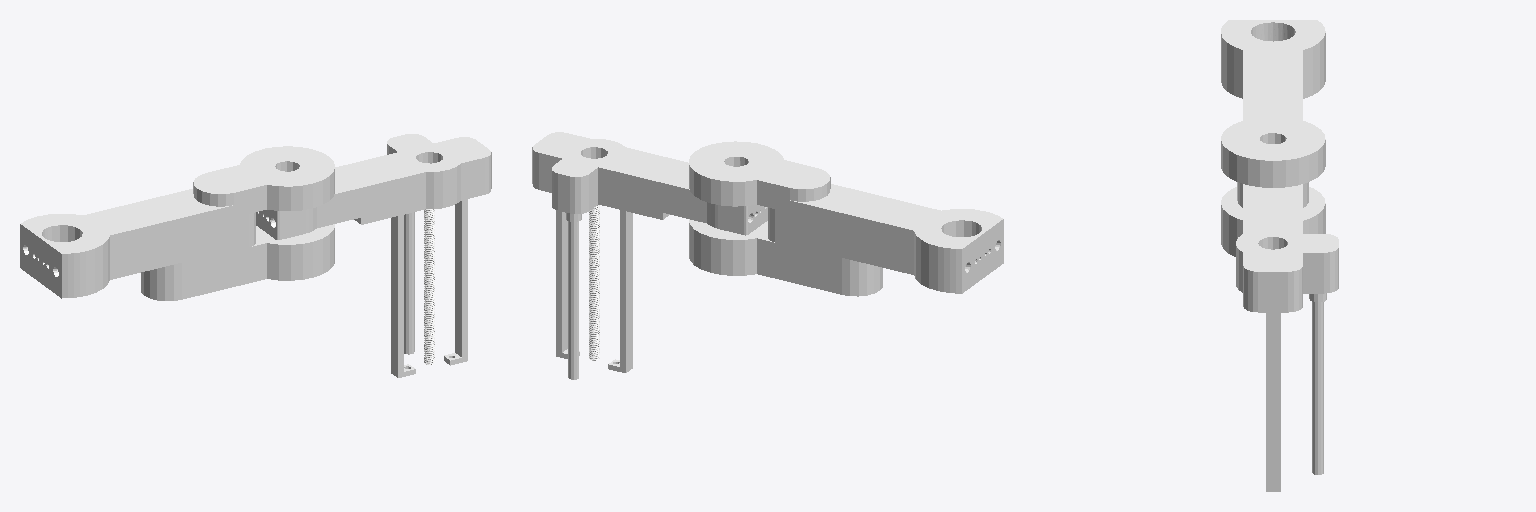
The robot description file, URDF, robot "adept_robot_2":
<?xml version="1.0" encoding="utf-8"?>
<!-- This URDF was automatically created by SolidWorks to URDF Exporter! Originally created by [author] ([email redacted]) 
     Commit Version: 1.5.1-0-g916b5db  Build Version: 1.5.7152.31018
     For more information, please see http://wiki.ros.org/sw_urdf_exporter -->
<robot
  name="adept_robot_2">
  <link
    name="base_link">
    <inertial>
      <origin
        xyz="0.0245 -0.0001542 0.21373"
        rpy="0 0 0" />
      <mass
        value="2.5675" />
      <inertia
        ixx="0.0068861"
        ixy="5.4055E-11"
        ixz="5.5326E-05"
        iyy="0.0063943"
        iyz="-3.5928E-12"
        izz="0.0057933" />
    </inertial>
    <visual>
      <origin
        xyz="0 0 0"
        rpy="0 0 0" />
      <geometry>
        <mesh
          filename="package://adept_robot_2/meshes/base_link.STL" />
      </geometry>
      <material
        name="">
        <color
          rgba="1 1 1 0.32" />
      </material>
    </visual>
    <collision>
      <origin
        xyz="0 0 0"
        rpy="0 0 0" />
      <geometry>
        <mesh
          filename="package://adept_robot_2/meshes/base_link.STL" />
      </geometry>
    </collision>
  </link>
  <link
    name="Link1">
    <inertial>
      <origin
        xyz="0.117407025872708 -1.25359334024466E-10 -0.0275548145030767"
        rpy="0 0 0" />
      <mass
        value="0.569125964077184" />
      <inertia
        ixx="0.000395436813571713"
        ixy="5.37455807300204E-13"
        ixz="0.000124545644672777"
        iyy="0.00223952834304756"
        iyz="3.5503068082669E-13"
        izz="0.00211092523046064" />
    </inertial>
    <visual>
      <origin
        xyz="0 0 0"
        rpy="0 0 0" />
      <geometry>
        <mesh
          filename="package://adept_robot_2/meshes/Link1.STL" />
      </geometry>
      <material
        name="">
        <color
          rgba="1 1 1 1" />
      </material>
    </visual>
    <collision>
      <origin
        xyz="0 0 0"
        rpy="0 0 0" />
      <geometry>
        <mesh
          filename="package://adept_robot_2/meshes/Link1.STL" />
      </geometry>
    </collision>
  </link>
  <joint
    name="Joint1"
    type="revolute">
    <origin
      xyz="0.10571 -0.0001601 0.42988"
      rpy="0 0 0" />
    <parent
      link="base_link" />
    <child
      link="Link1" />
    <axis
      xyz="0 0 1" />
    <limit
      lower="-2"
      upper="2"
      effort="0"
      velocity="1" />
  </joint>
  <link
    name="Link2">
    <inertial>
      <origin
        xyz="0.0829498912742016 0.00283016633079733 0.00977088530359421"
        rpy="0 0 0" />
      <mass
        value="0.212874058038776" />
      <inertia
        ixx="6.57074308602495E-05"
        ixy="-1.74128836487361E-05"
        ixz="8.4823788307751E-06"
        iyy="0.000390393473487716"
        iyz="7.84228298422962E-07"
        izz="0.000425987376929657" />
    </inertial>
    <visual>
      <origin
        xyz="0 0 0"
        rpy="0 0 0" />
      <geometry>
        <mesh
          filename="package://adept_robot_2/meshes/Link2.STL" />
      </geometry>
      <material
        name="">
        <color
          rgba="1 1 1 1" />
      </material>
    </visual>
    <collision>
      <origin
        xyz="0 0 0"
        rpy="0 0 0" />
      <geometry>
        <mesh
          filename="package://adept_robot_2/meshes/Link2.STL" />
      </geometry>
    </collision>
  </link>
  <joint
    name="Joint2"
    type="revolute">
    <origin
      xyz="0.19 0 -0.035"
      rpy="0 0 0" />
    <parent
      link="Link1" />
    <child
      link="Link2" />
    <axis
      xyz="0 0 1" />
    <limit
      lower="-2"
      upper="2"
      effort="0"
      velocity="1" />
  </joint>
  <link
    name="Tool">
    <inertial>
      <origin
        xyz="-4.27651823747821E-06 -0.00299987625965217 0.0348778462843223"
        rpy="0 0 0" />
      <mass
        value="0.023545411123381" />
      <inertia
        ixx="4.56549098366953E-05"
        ixy="-7.94158153472426E-09"
        ixz="-4.55664961256907E-09"
        iyy="4.00718283641911E-05"
        iyz="-3.17465425925388E-06"
        izz="6.99639144528093E-06" />
    </inertial>
    <visual>
      <origin
        xyz="0 0 0"
        rpy="0 0 0" />
      <geometry>
        <mesh
          filename="package://adept_robot_2/meshes/Tool.STL" />
      </geometry>
      <material
        name="">
        <color
          rgba="1 1 1 1" />
      </material>
    </visual>
    <collision>
      <origin
        xyz="0 0 0"
        rpy="0 0 0" />
      <geometry>
        <mesh
          filename="package://adept_robot_2/meshes/Tool.STL" />
      </geometry>
    </collision>
  </link>
  <joint
    name="Tool1"
    type="prismatic">
    <origin
      xyz="0.12 0 -0.14263"
      rpy="-3.1416 0 0" />
    <parent
      link="Link2" />
    <child
      link="Tool" />
    <axis
      xyz="0 0 1" />
    <limit
      lower="0"
      upper="0.06"
      effort="0"
      velocity="0.075" />
  </joint>
  <link
    name="Link_4">
    <inertial>
      <origin
        xyz="-0.000623533590957182 0.00434070055352537 0.0430465440289566"
        rpy="0 0 0" />
      <mass
        value="0.0317141760755607" />
      <inertia
        ixx="7.93928844844214E-06"
        ixy="-2.50593233840946E-12"
        ixz="-1.72426138157143E-07"
        iyy="1.11018333375248E-05"
        iyz="-4.41698963488257E-08"
        izz="4.27099015161773E-06" />
    </inertial>
    <visual>
      <origin
        xyz="0 0 0"
        rpy="0 0 0" />
      <geometry>
        <mesh
          filename="package://adept_robot_2/meshes/Link_4.STL" />
      </geometry>
      <material
        name="">
        <color
          rgba="1 1 1 0.32" />
      </material>
    </visual>
    <collision>
      <origin
        xyz="0 0 0"
        rpy="0 0 0" />
      <geometry>
        <mesh
          filename="package://adept_robot_2/meshes/Link_4.STL" />
      </geometry>
    </collision>
  </link>
  <joint
    name="Revolute4"
    type="revolute">
    <origin
      xyz="0.00013701 0 0.125"
      rpy="0 0 0" />
    <parent
      link="Tool" />
    <child
      link="Link_4" />
    <axis
      xyz="0 0 1" />
    <limit
      lower="-1.57"
      upper="1.57"
      effort="0"
      velocity="0.5" />
  </joint>
  <link
    name="RigidBody">
    <inertial>
      <origin
        xyz="-1.5837449969025E-05 -0.0109655938473857 -0.0707365158487714"
        rpy="0 0 0" />
      <mass
        value="0.0516096083407531" />
      <inertia
        ixx="9.35418438432533E-05"
        ixy="4.09021495360865E-12"
        ixz="1.90900339264504E-10"
        iyy="9.35989189378686E-05"
        iyz="3.12076345540328E-10"
        izz="5.9086012596584E-07" />
    </inertial>
    <visual>
      <origin
        xyz="0 0 0"
        rpy="0 0 0" />
      <geometry>
        <mesh
          filename="package://adept_robot_2/meshes/RigidBody.STL" />
      </geometry>
      <material
        name="">
        <color
          rgba="1 1 1 1" />
      </material>
    </visual>
    <collision>
      <origin
        xyz="0 0 0"
        rpy="0 0 0" />
      <geometry>
        <mesh
          filename="package://adept_robot_2/meshes/RigidBody.STL" />
      </geometry>
    </collision>
  </link>
  <joint
    name="Fixed_Body"
    type="fixed">
    <origin
      xyz="0.12 0 -0.14263"
      rpy="-3.1416 0 0" />
    <parent
      link="Link2" />
    <child
      link="RigidBody" />
    <axis
      xyz="0 0 0" />
    <limit
      lower="0"
      upper="0"
      effort="0"
      velocity="0" />
    <safety_controller
      soft_upper="0"
      soft_lower="0"
      k_position="0"
      k_velocity="0" />
  </joint>
</robot>

--- Render facts (derived) ---
3 views of the same robot in one strip: view 1: azimuth 30°, elevation 25°; view 2: azimuth 150°, elevation 25°; view 3: azimuth 270°, elevation 25° (orthographic).
Robot: adept_robot_2 — 6 links, 5 joints (3 revolute, 1 prismatic, 1 fixed); root link base_link; default pose: all joints at 0.
Visible links, largest first — view 1: Link1, Link2, RigidBody; view 2: Link1, Link2, RigidBody; view 3: Link1, Link2, RigidBody.
Link boxes in pixels (bbox=[...]): Link1: bbox=[20, 146, 334, 300]; Link2: bbox=[256, 134, 491, 239]; RigidBody: bbox=[391, 199, 467, 377]; Link1: bbox=[689, 141, 1003, 296]; Link2: bbox=[532, 132, 767, 235]; RigidBody: bbox=[556, 205, 632, 379]; Link1: bbox=[1221, 20, 1325, 256]; Link2: bbox=[1236, 182, 1338, 312]; RigidBody: bbox=[1266, 302, 1323, 491].
Size in the robot's own frame: 0.373 by 0.079 by 0.19 metres.
3 mesh visuals loaded from 6 distinct referenced files (3 binary STL); not drawn: 3 (reference not matched to a file when rendering).